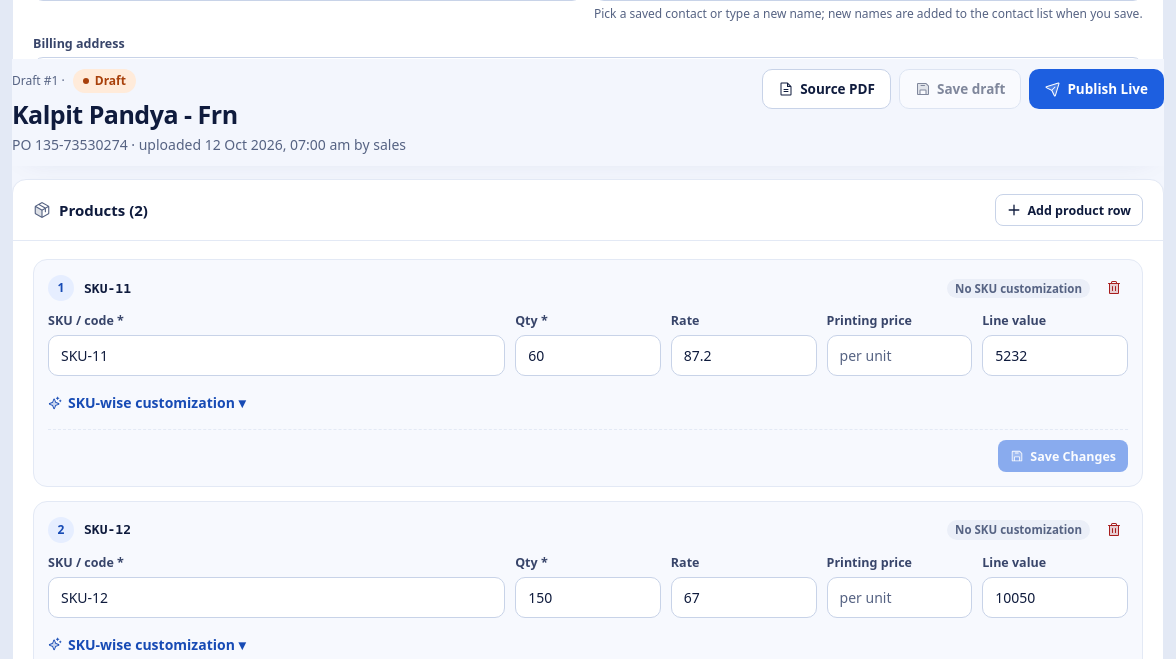
Test: product card Save Changes › keeps edits and shows the error when the save fails
(page scrolled)
Type "-X" into the field labelled "SKU / code *" below "SKU-11" at (277, 356), box [48,335,505,376]
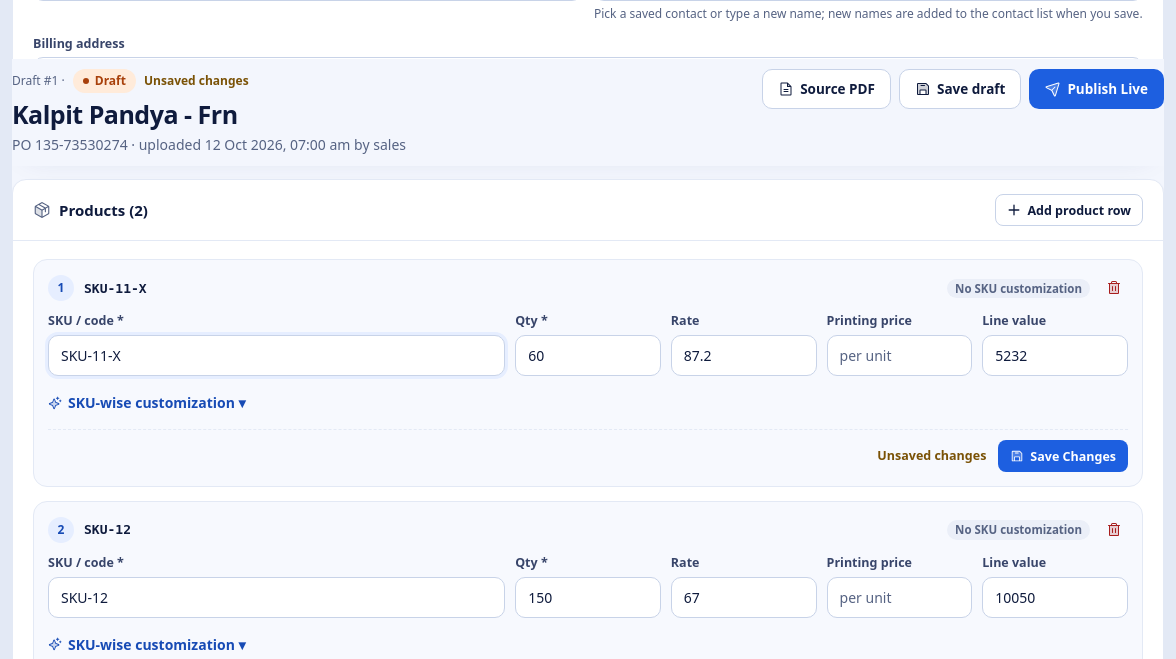
Click the 1st button "Save Changes" at (1063, 456), box [998,440,1128,472]
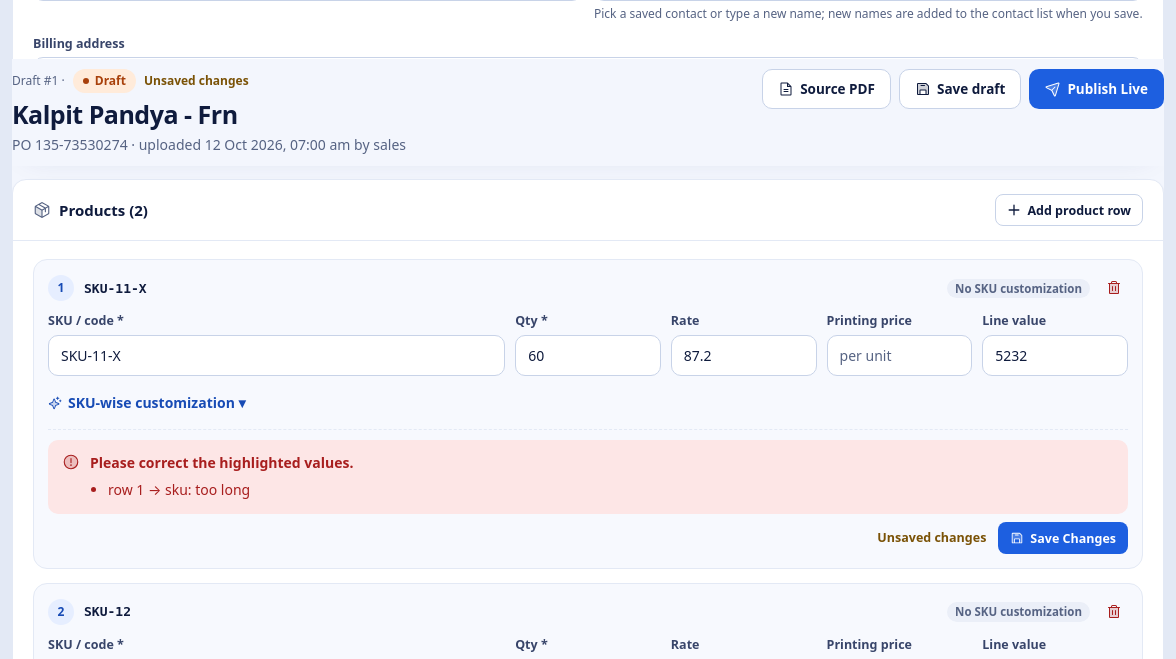
Expected: the field labelled "SKU / code *" below "SKU-11-X" holds "SKU-11-X", [48,335,505,376]
Expected: the text "Please correct the highlighted values." is shown, [90,453,353,472]
Expected: the list item "row 1 → sku: too long" is shown, [108,480,250,499]
